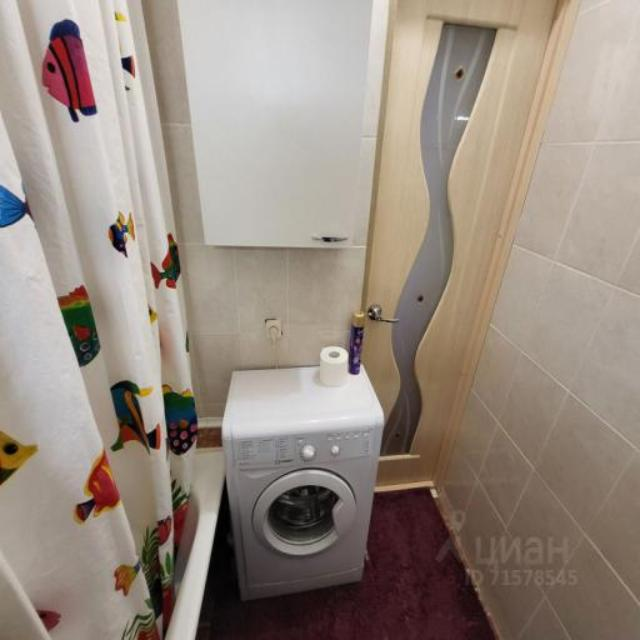Washing-Machine: (222, 366, 384, 602)
